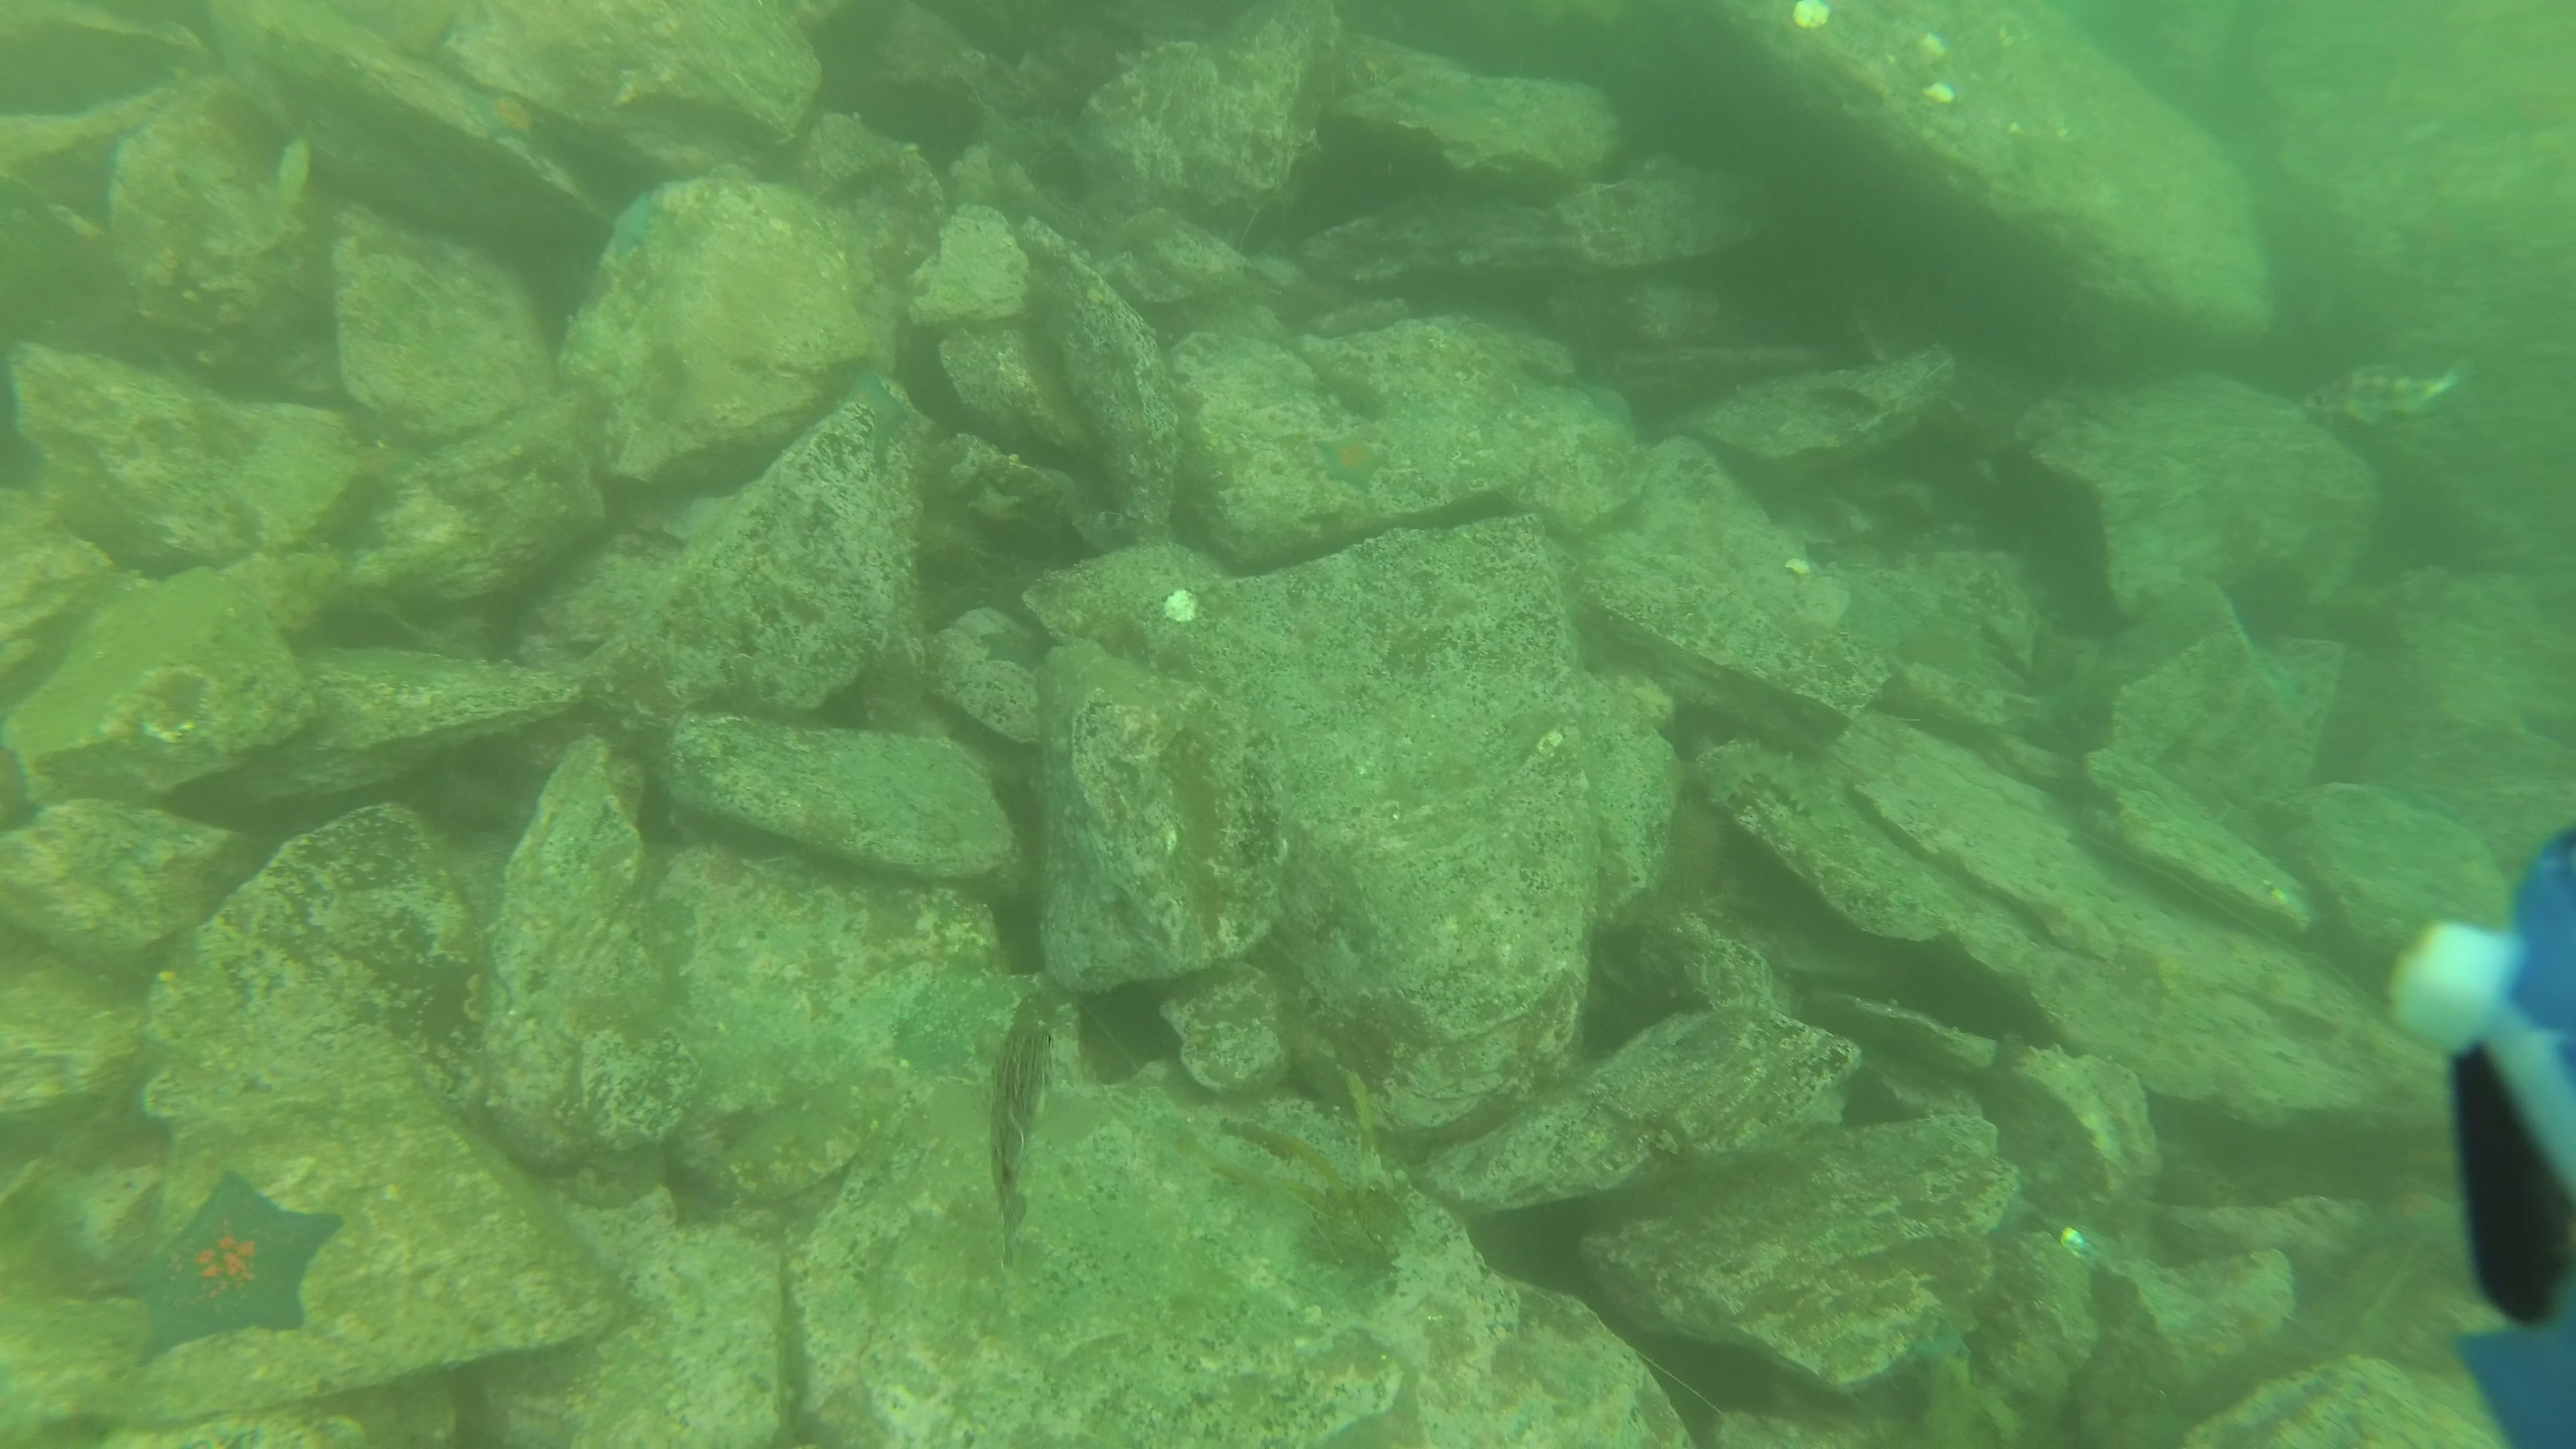starfish: (108, 1161, 347, 1362), (837, 359, 913, 471), (1307, 423, 1394, 497), (971, 607, 1058, 679), (449, 81, 545, 147), (964, 467, 1049, 540), (603, 186, 671, 260)
